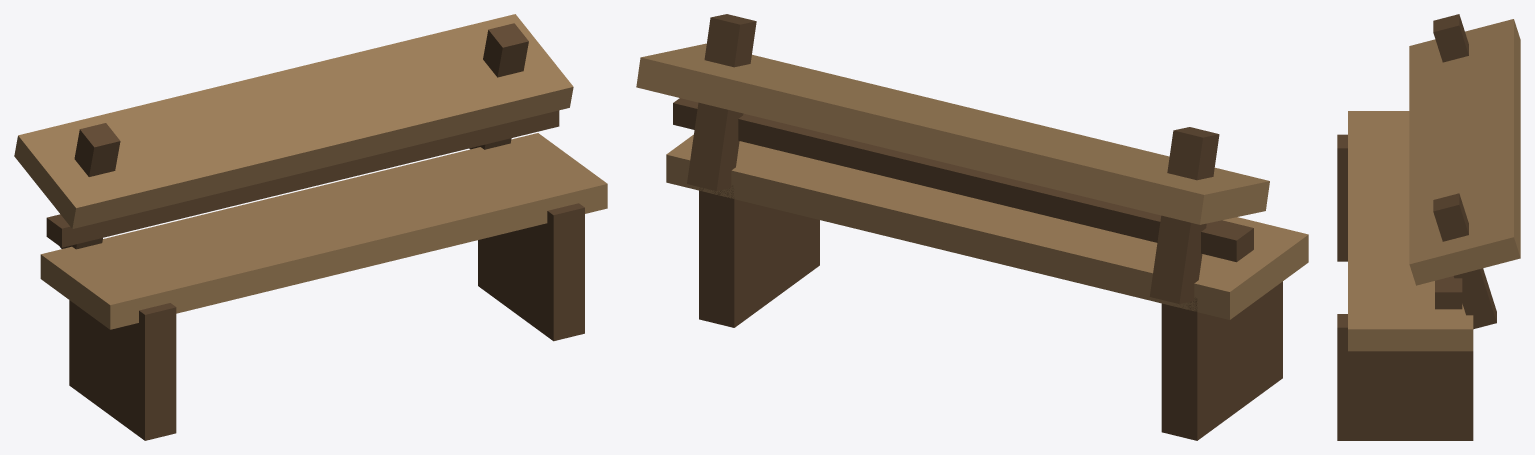
The model's file is bench.glb.
The picture shows the model from 3 angles, left to right: view 1: azimuth 30°, elevation 25°; view 2: azimuth 150°, elevation 25°; view 3: azimuth 270°, elevation 25°; orthographic projection. The views are drawn at different scales.
Parts seen in each view (by area): view 1: bench; view 2: bench; view 3: bench.
Boxes of the visible parts, bbox=[...] form: bench: bbox=[14, 14, 607, 440]; bench: bbox=[636, 14, 1308, 440]; bench: bbox=[1337, 14, 1520, 440].
Bounding box in the file's own units: 1.9 × 0.9541 × 0.6746.
